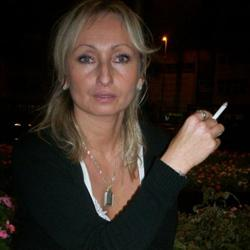smoking: (174, 100, 231, 165)
